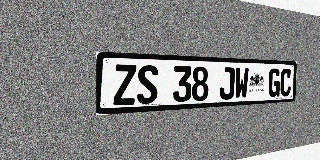3: (173, 66, 192, 102)
8: (192, 66, 209, 101)
C: (280, 69, 292, 97)
G: (268, 68, 281, 97)
J: (219, 67, 235, 100)
S: (137, 65, 158, 104)
W: (234, 67, 249, 99)
Z: (113, 64, 136, 106)
